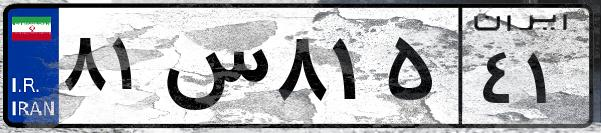1: (330, 28, 385, 110), (525, 38, 570, 115), (110, 28, 158, 98)
4: (475, 38, 525, 113)
5: (385, 28, 445, 110)
8: (270, 28, 330, 110), (57, 26, 110, 100)
س: (158, 20, 270, 120)
